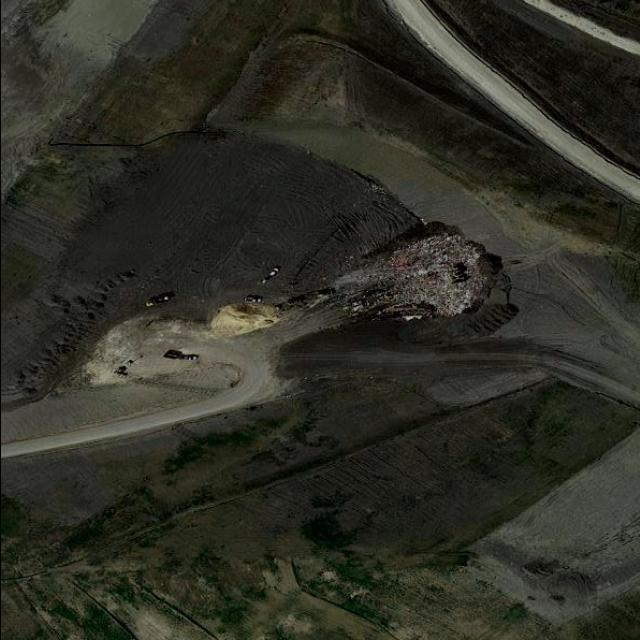dump_site: (330, 229, 495, 328)
